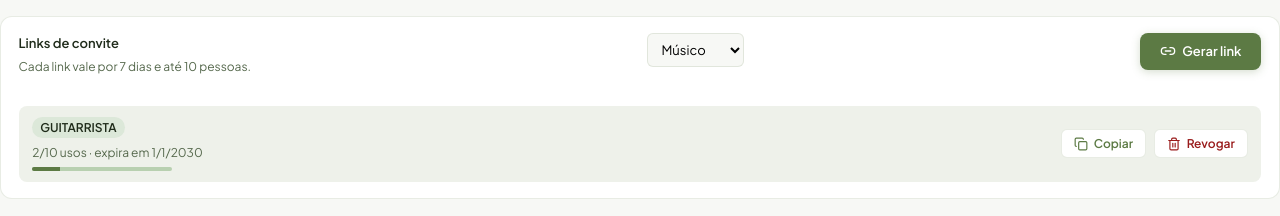
Test: InviteLinksPanel › revoga um link e o remove da lista
This screenshot has width=1280, height=216.
Expected: the text "GUITARRISTA" is shown, x1=32 y1=117 x2=125 y2=138
Click the button titled "Revogar link" at (1201, 144), box x1=1154 y1=130 x2=1248 y2=158
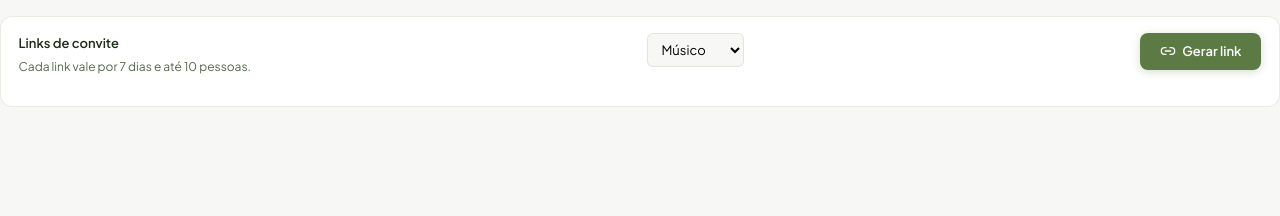
Result: the text "GUITARRISTA" is gone
